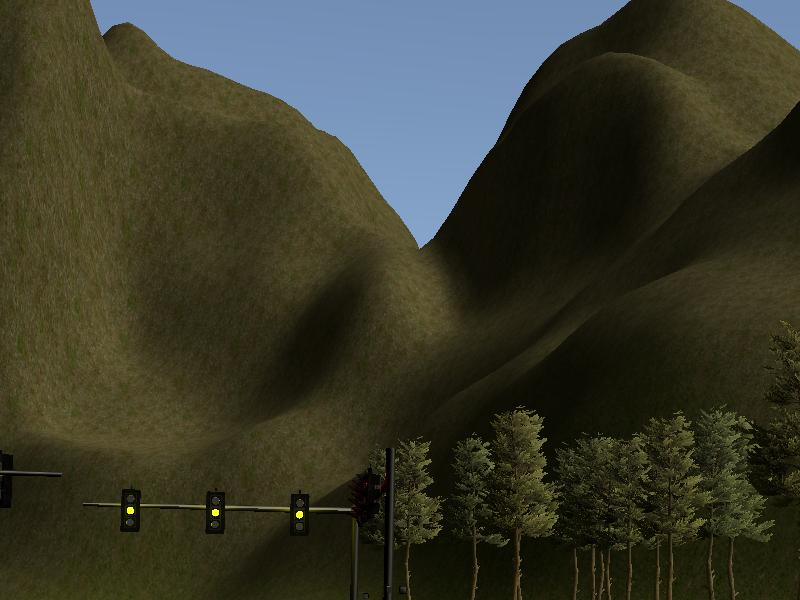Yellow: (122, 488, 141, 533), (206, 492, 224, 534), (290, 494, 308, 535)
